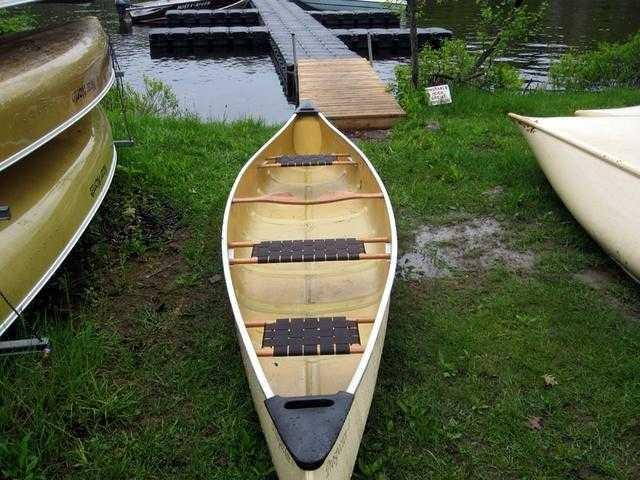kayak: (219, 102, 398, 479), (1, 5, 119, 353), (507, 106, 639, 284), (123, 0, 247, 25)
